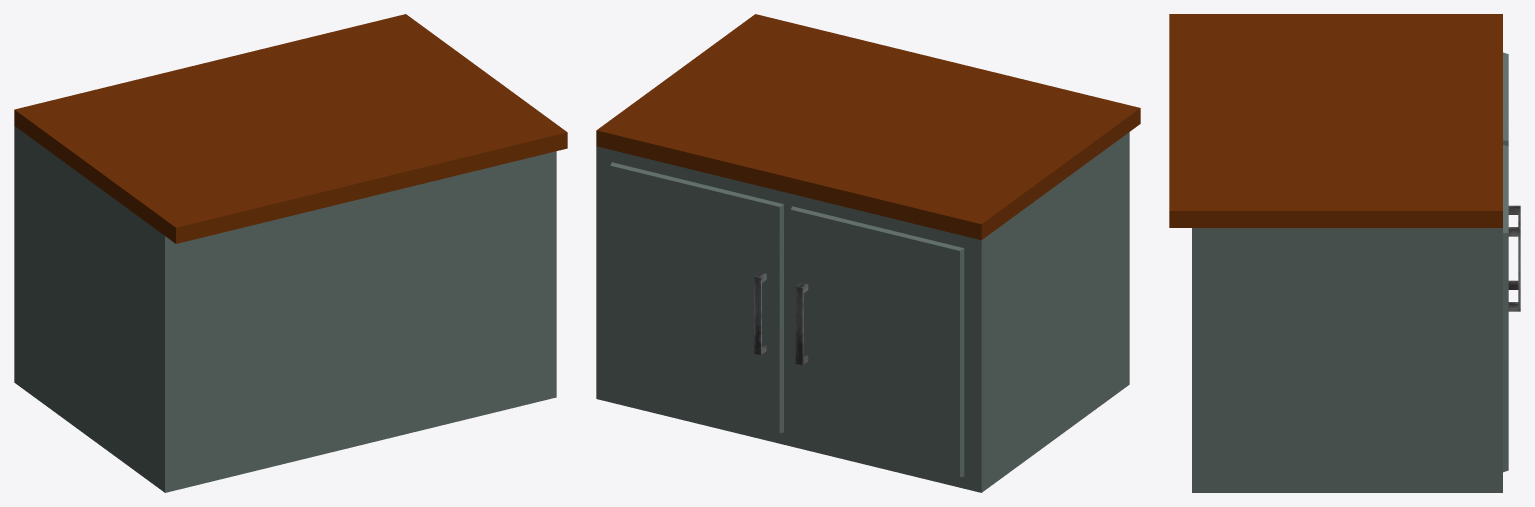
The model's file is SM_Counter_01.glb.
3 renders of one model, left to right at view 1: azimuth 30°, elevation 25°; view 2: azimuth 150°, elevation 25°; view 3: azimuth 270°, elevation 25°, orthographic. The views are drawn at different scales.
Visible parts, largest first — view 1: SM_Counter_01; view 2: SM_Counter_01; view 3: SM_Counter_01.
Part boxes in pixels (<box>): SM_Counter_01: <box>14,14,567,492</box>; SM_Counter_01: <box>596,14,1140,492</box>; SM_Counter_01: <box>1169,14,1520,492</box>.
Bounding box in the file's own units: 1.5 × 1 × 1.13.
Materials: 2 (1 with a texture image).
